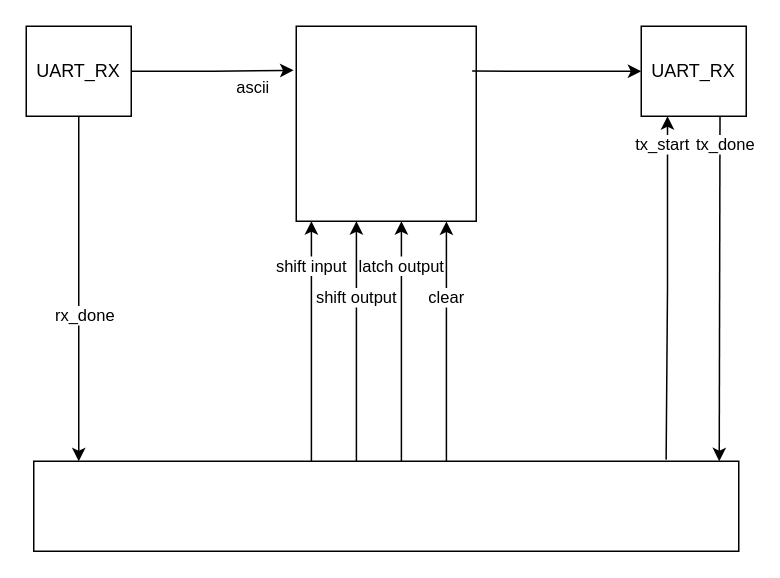
This 780x578 diagram has some shape labels left out. Here are the shapes that lost their labels. From the top down, the box of each, then its label:
(295, 25, 476, 221): Bitonic_Sorter
(32, 460, 739, 551): FSM
